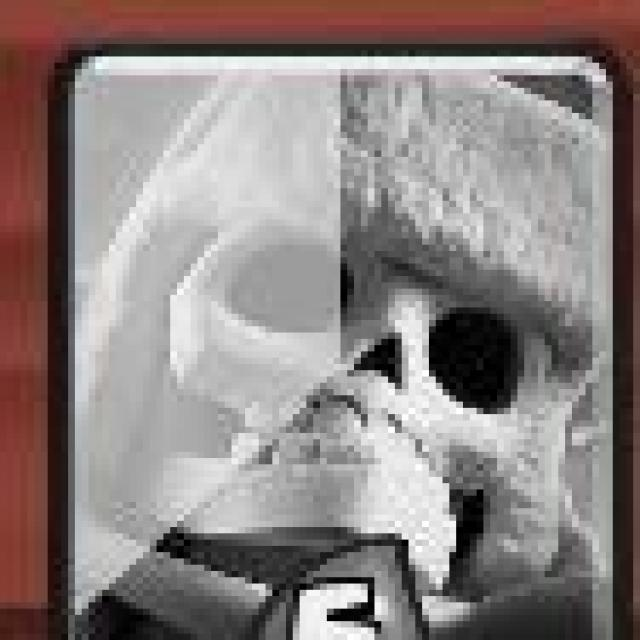Giant_Skeleton: (50, 45, 630, 640)
